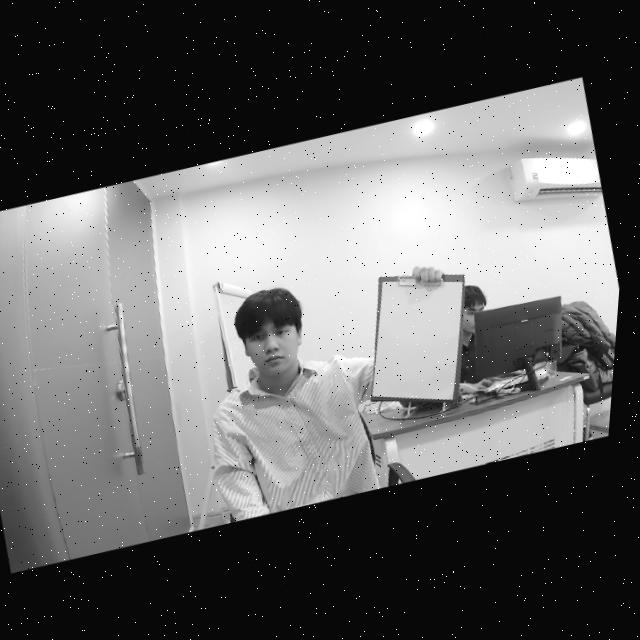face: (234, 307, 307, 386)
